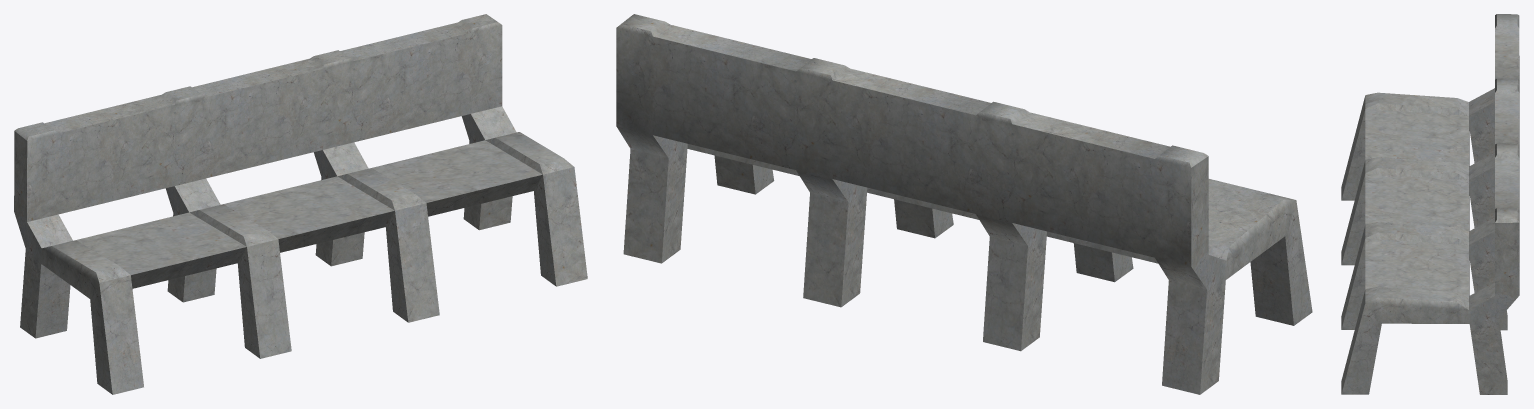
The model's file is UDC_Bench.obj.
3 views of the same model, side by side, from view 1: azimuth 30°, elevation 25°; view 2: azimuth 150°, elevation 25°; view 3: azimuth 270°, elevation 25° (orthographic). The views are drawn at different scales.
Visible parts, largest first — view 1: UDC_Bench; view 2: UDC_Bench; view 3: UDC_Bench.
Part boxes in pixels (box(x1,y1,x2,y2)): UDC_Bench: box(14, 14, 587, 394); UDC_Bench: box(616, 14, 1312, 394); UDC_Bench: box(1341, 14, 1519, 394).
Size of the model in its own units: 0.7996 by 0.3127 by 0.2895.
1 material, 1 textured.
